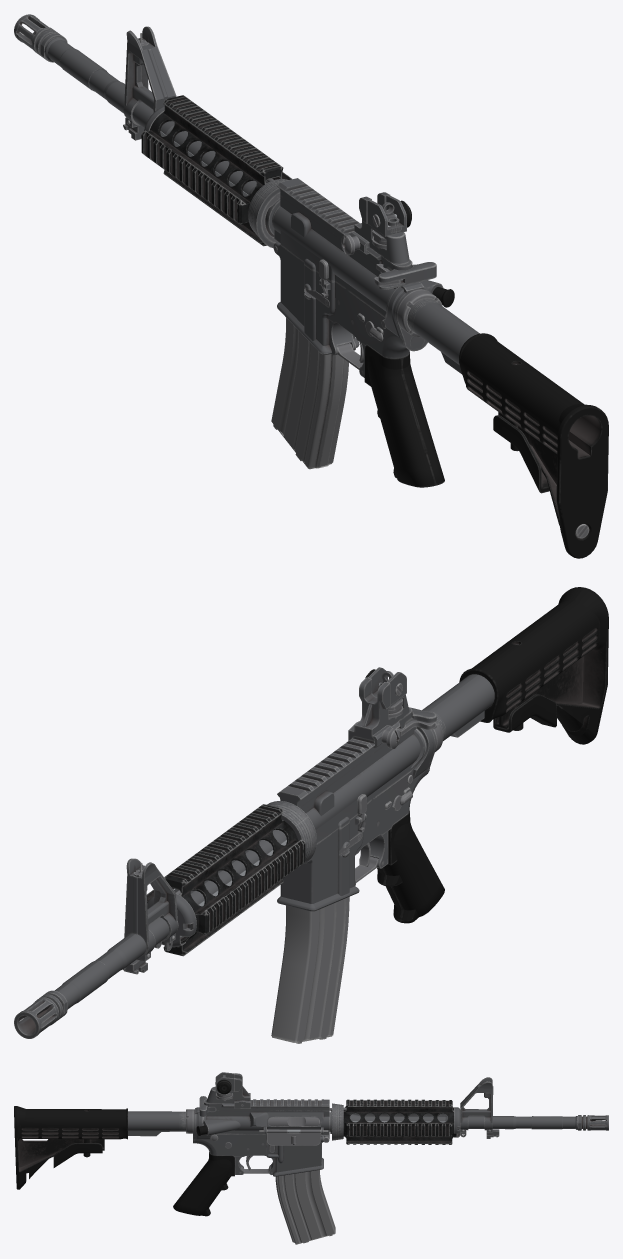
The picture shows the model from 3 angles, top to bottom: view 1: azimuth 30°, elevation 25°; view 2: azimuth 150°, elevation 25°; view 3: azimuth 270°, elevation 25°; orthographic projection. The views are drawn at different scales.
Visible parts, largest first — view 1: base, part_low_M_M4A1_0, magazine, rear sight.001, charging handle; view 2: base, part_low_M_M4A1_0, magazine, rear sight.001; view 3: base, part_low_M_M4A1_0, magazine, rear sight.001, part.043_low_M_M4A1_0, bolt.
Part boxes in pixels (x1,y1,x2,y2): base: (14, 14, 516, 487); part_low_M_M4A1_0: (459, 333, 608, 558); magazine: (271, 318, 348, 469); rear sight.001: (341, 192, 411, 264); charging handle: (378, 262, 436, 289); base: (14, 644, 518, 1038); part_low_M_M4A1_0: (459, 587, 608, 744); magazine: (271, 897, 349, 1043); rear sight.001: (348, 667, 409, 748); base: (128, 1077, 608, 1216); part_low_M_M4A1_0: (14, 1106, 127, 1189); magazine: (275, 1170, 335, 1244); rear sight.001: (206, 1072, 250, 1108); part.043_low_M_M4A1_0: (267, 1129, 320, 1145); bolt: (268, 1117, 319, 1126).
Bounding box in the file's own units: 0.0693 × 0.2676 × 0.8653.
1 material, 1 textured.
